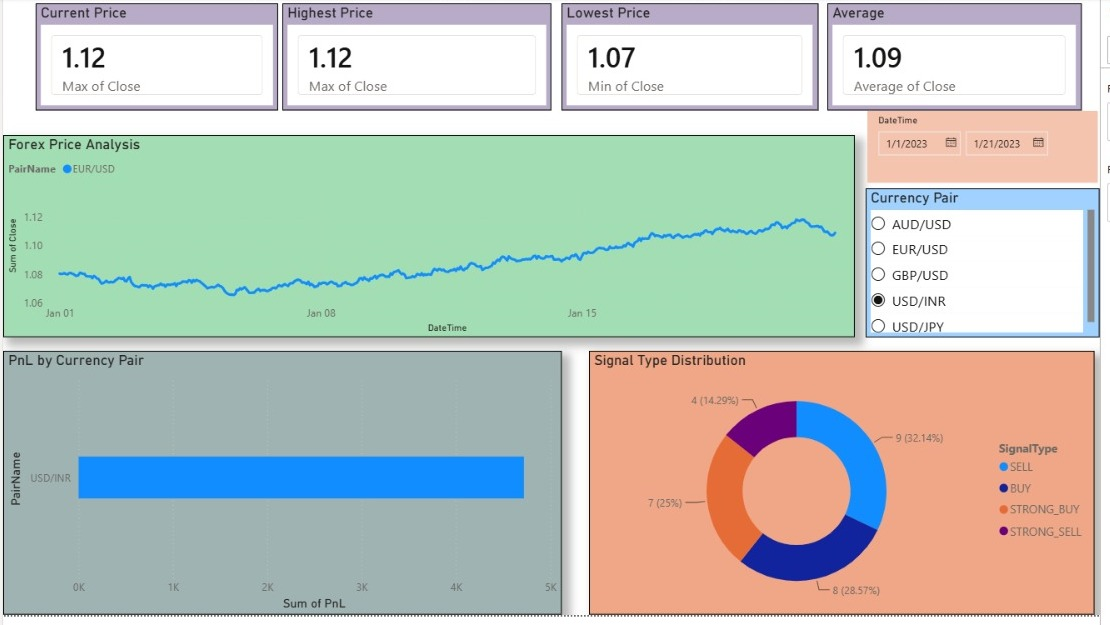

The dashboard page shown, as its layout file describes it:
{"tool":"powerbi","page":{"name":"Forex Market Analysis","canvas":[1280,720],"ordinal":0},"visuals":[{"type":"lineChart","title":"Forex Price Analysis","fields":{"Category":["forex_price_data.DateTime"],"Series":["forex_price_data.PairName"],"Y":["Sum(forex_price_data.Close)"]},"box":[28.5,159.6,967.8,236.3],"z":0},{"type":"cardVisual","title":"Current Price","fields":{"Data":["Max(forex_price_data.Close)"]},"box":[37.9,5.8,283,125.5],"z":1000},{"type":"cardVisual","title":"Highest Price","fields":{"Data":["Max(forex_price_data.Close)"]},"box":[325.8,5.8,314.2,125.5],"z":2000},{"type":"cardVisual","title":"Lowest Price ","fields":{"Data":["Min(forex_price_data.Close)"]},"box":[651.7,5.8,299.6,125.5],"z":3000},{"type":"cardVisual","title":"Average","fields":{"Data":["Avg(forex_price_data.Close)"]},"box":[961.9,5.8,296.7,125.5],"z":4000},{"type":"clusteredBarChart","title":"PnL by Currency Pair","fields":{"Category":["trade_log.PairName"],"Y":["trade_log.Total Net PnL USD"]},"box":[28.5,412.3,623.6,307.9],"z":5000},{"type":"donutChart","title":"Signal Type Distribution","fields":{"Category":["trade_log.SignalType"],"Y":["CountNonNull(trade_log.TradeID)"]},"box":[683.8,411.4,590.4,308.3],"z":6000},{"type":"listSlicer","title":"Currency Pair","fields":{"Values":["trade_log.PairName"]},"box":[1006.6,227.7,273.4,174.2],"z":7000},{"type":"slicer","fields":{"Values":["forex_price_data.DateTime"]},"box":[1010,138,270,83.7],"z":8000}]}

Visuals, with their boxes in screenshot pixels (x1, y1, x2, y2), scaled from the page's 1280x720 canvas onto the 1110x625 screenshot:
"Forex Price Analysis" lineChart: (25,139,864,344)
"Current Price" cardVisual: (33,5,278,114)
"Highest Price" cardVisual: (283,5,555,114)
"Lowest Price " cardVisual: (565,5,825,114)
"Average" cardVisual: (834,5,1091,114)
"PnL by Currency Pair" clusteredBarChart: (25,358,565,624)
"Signal Type Distribution" donutChart: (593,357,1105,624)
"Currency Pair" listSlicer: (873,198,1109,349)
slicer - forex_price_data.DateTime: (876,120,1109,192)
